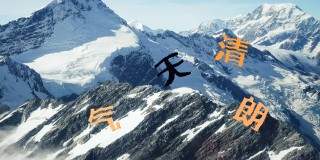天: (154, 51, 192, 88)
朗: (232, 95, 269, 132)
气: (88, 105, 120, 131)
清: (215, 34, 249, 66)
